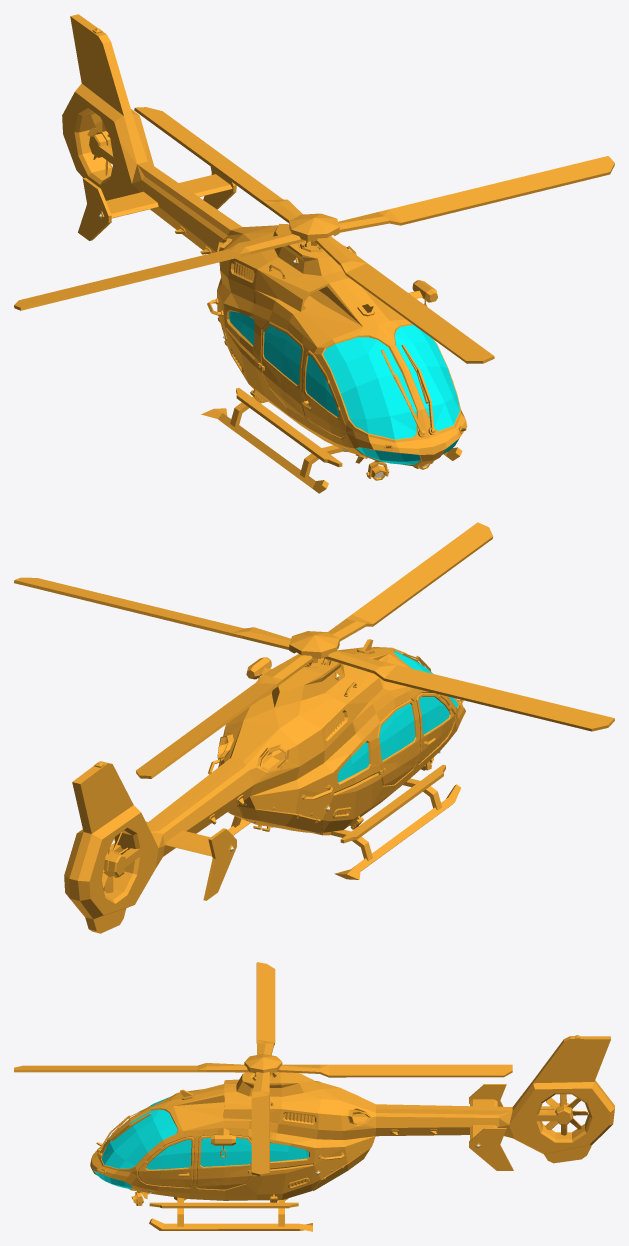
The model's file is SM_Helicopter_Rescue_City.fbx.
3 views of the same model, one above another, from view 1: azimuth 30°, elevation 25°; view 2: azimuth 150°, elevation 25°; view 3: azimuth 270°, elevation 25° (orthographic). The views are drawn at different scales.
Visible parts, largest first — view 1: SM_Helicopter_Rescue_City_Base, SM_Helicopter_Rescue_City_Rotor_A, SM_Helicopter_Rescue_City_Door_RB, SM_Helicopter_Rescue_City_Door_RF; view 2: SM_Helicopter_Rescue_City_Base, SM_Helicopter_Rescue_City_Rotor_A, SM_Helicopter_Rescue_City_Door_RB, SM_Helicopter_Rescue_City_Door_RF; view 3: SM_Helicopter_Rescue_City_Base, SM_Helicopter_Rescue_City_Rotor_A, SM_Helicopter_Rescue_City_Door_LB, SM_Helicopter_Rescue_City_Door_LF, SM_Helicopter_Rescue_City_Rotor_B.
Boxes of the visible parts, x1=… form: SM_Helicopter_Rescue_City_Base: x1=62, y1=14, x2=467, y2=493; SM_Helicopter_Rescue_City_Rotor_A: x1=14, y1=107, x2=614, y2=363; SM_Helicopter_Rescue_City_Door_RB: x1=257, y1=322, x2=305, y2=417; SM_Helicopter_Rescue_City_Door_RF: x1=302, y1=350, x2=345, y2=438; SM_Helicopter_Rescue_City_Base: x1=64, y1=639, x2=465, y2=933; SM_Helicopter_Rescue_City_Rotor_A: x1=14, y1=522, x2=614, y2=778; SM_Helicopter_Rescue_City_Door_RB: x1=377, y1=699, x2=417, y2=785; SM_Helicopter_Rescue_City_Door_RF: x1=416, y1=692, x2=454, y2=763; SM_Helicopter_Rescue_City_Base: x1=90, y1=1035, x2=614, y2=1231; SM_Helicopter_Rescue_City_Rotor_A: x1=14, y1=962, x2=512, y2=1176; SM_Helicopter_Rescue_City_Door_LB: x1=196, y1=1135, x2=251, y2=1189; SM_Helicopter_Rescue_City_Door_LF: x1=138, y1=1137, x2=194, y2=1187; SM_Helicopter_Rescue_City_Rotor_B: x1=539, y1=1094, x2=587, y2=1135.
Size of the model in its own units: 10.78 by 4.12 by 13.
